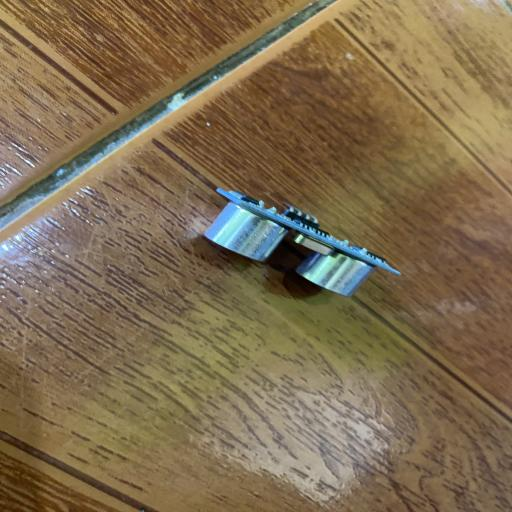Ultrasonic Sensor: (203, 187, 402, 298)
